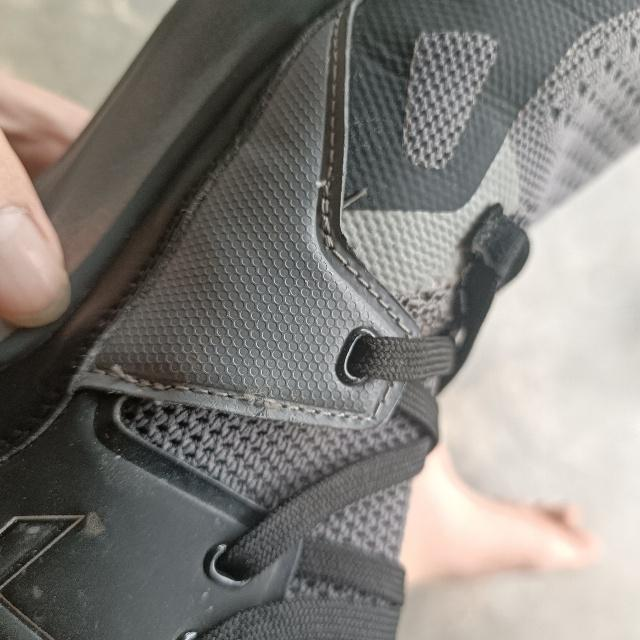broken: (230, 374, 278, 417)
